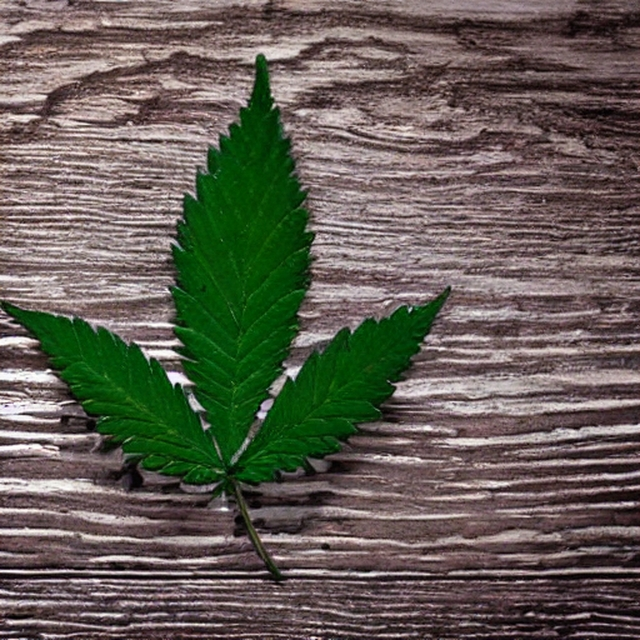Marijuana Leaf: (0, 50, 453, 580), (167, 51, 316, 466), (0, 295, 223, 487)
